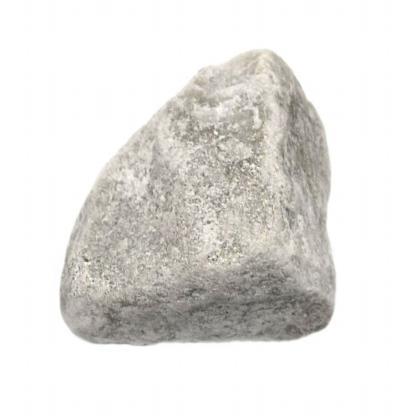Metamorphic_Marble: (60, 39, 345, 353)
